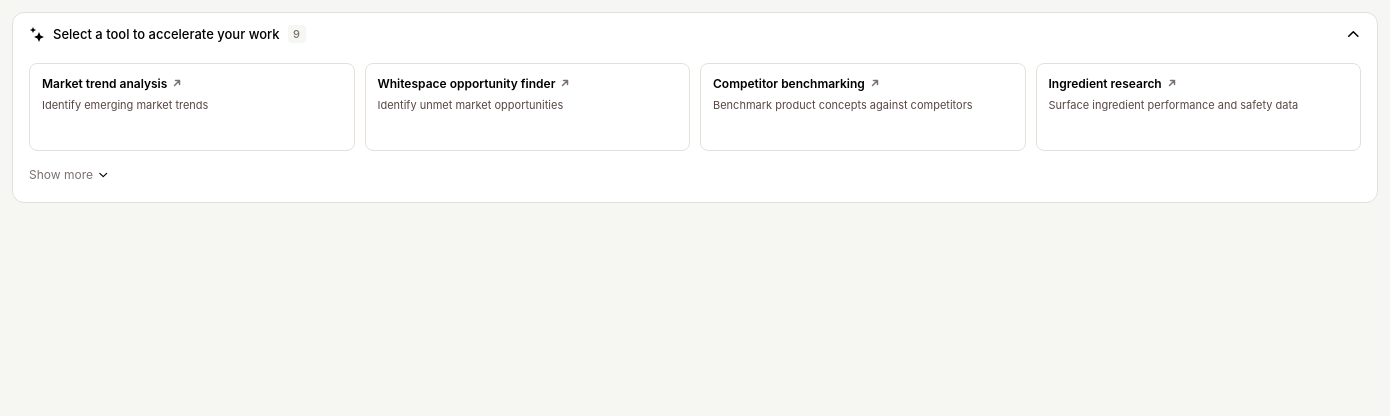
ToolSelectionPanel › tool grid › collapses tools back when clicking "Show less"
Click the button "Show more". click: click(69, 174)
box: [29,163,109,186]
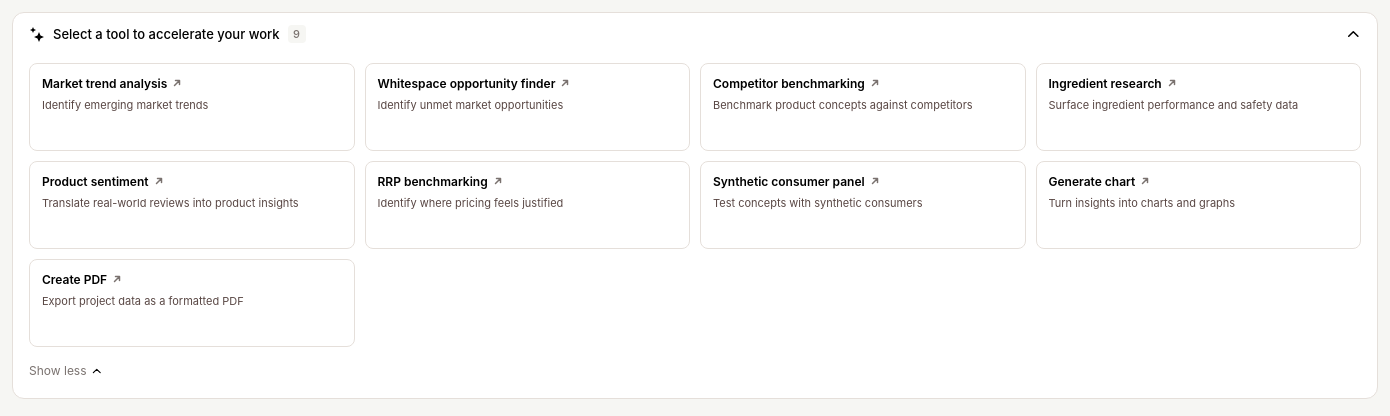
Click the button "Show less". click: click(66, 370)
box: [29,359,102,382]
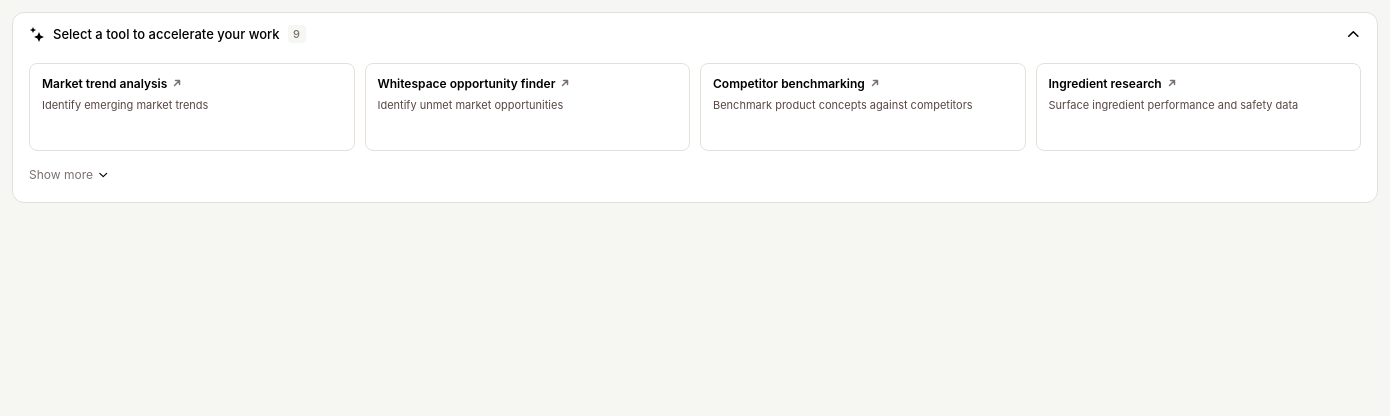
Expected: the number of buttons named "Use " is 4, [29,63,354,151]; [364,63,690,151]; [700,63,1026,151]; [1036,63,1361,151]
